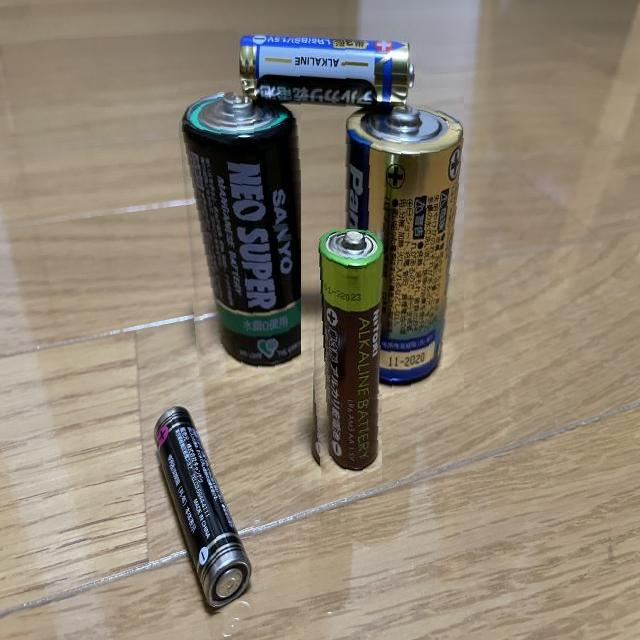battery: (330, 88, 464, 396), (174, 82, 302, 380), (149, 398, 254, 614), (302, 220, 382, 484), (231, 27, 422, 119)
